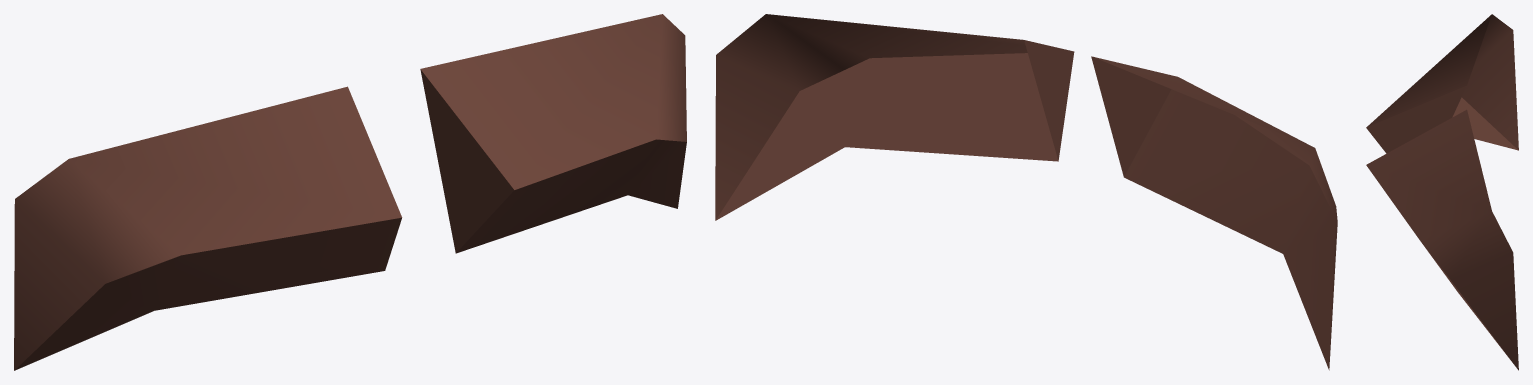
File: Male_Mustache_04.fbx
3 renders of one model, left to right at view 1: azimuth 30°, elevation 25°; view 2: azimuth 150°, elevation 25°; view 3: azimuth 270°, elevation 25°, orthographic. The views are drawn at different scales.
Parts seen in each view (by area): view 1: Male_Mustache_04; view 2: Male_Mustache_04; view 3: Male_Mustache_04.
Part boxes in pixels (left/top/right/bottom): Male_Mustache_04: left=14, top=14, right=686, bottom=370; Male_Mustache_04: left=715, top=14, right=1337, bottom=370; Male_Mustache_04: left=1366, top=14, right=1518, bottom=370.
Size of the model in its own units: 24.07 by 8.24 by 6.99.
